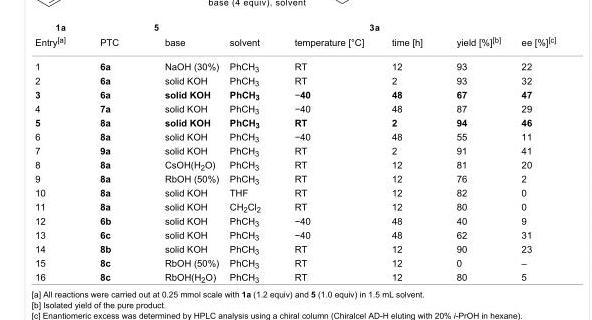table: (34, 34, 555, 283)
table column: (276, 34, 377, 283), (141, 34, 223, 283), (438, 34, 510, 283), (377, 34, 438, 283), (81, 34, 141, 283), (223, 34, 276, 283), (34, 34, 81, 283), (510, 34, 555, 283)
table row: (34, 53, 555, 73), (34, 34, 555, 53), (34, 157, 555, 172), (34, 199, 555, 214), (34, 73, 555, 87), (34, 87, 555, 101), (34, 101, 555, 115), (34, 115, 555, 129), (34, 129, 555, 143), (34, 143, 555, 157), (34, 172, 555, 186), (34, 214, 555, 228), (34, 228, 555, 242), (34, 242, 555, 256), (34, 256, 555, 270), (34, 186, 555, 199), (34, 270, 555, 283)
